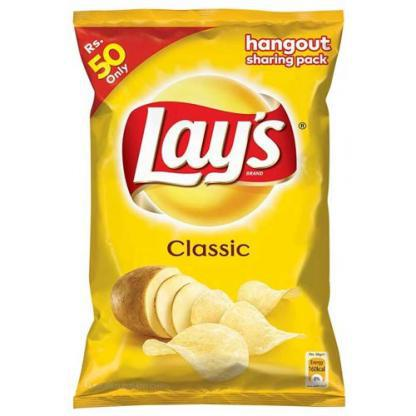classicsalted: (71, 8, 344, 408)
